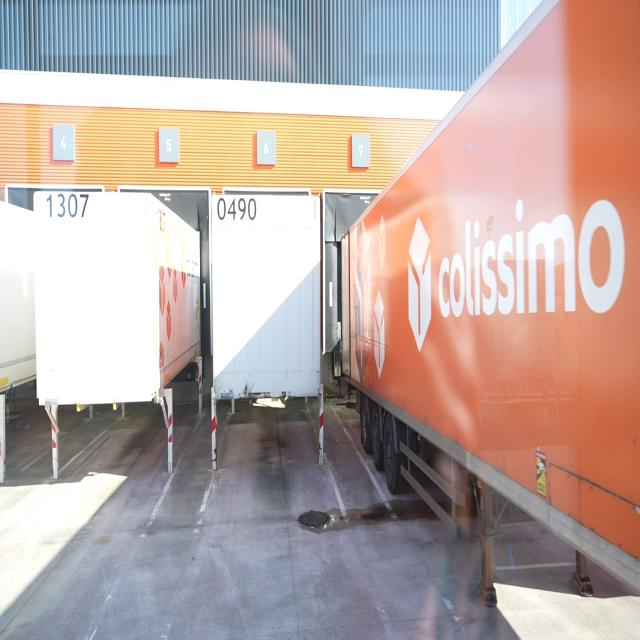Code: (44, 188, 91, 218), (214, 193, 258, 223)
